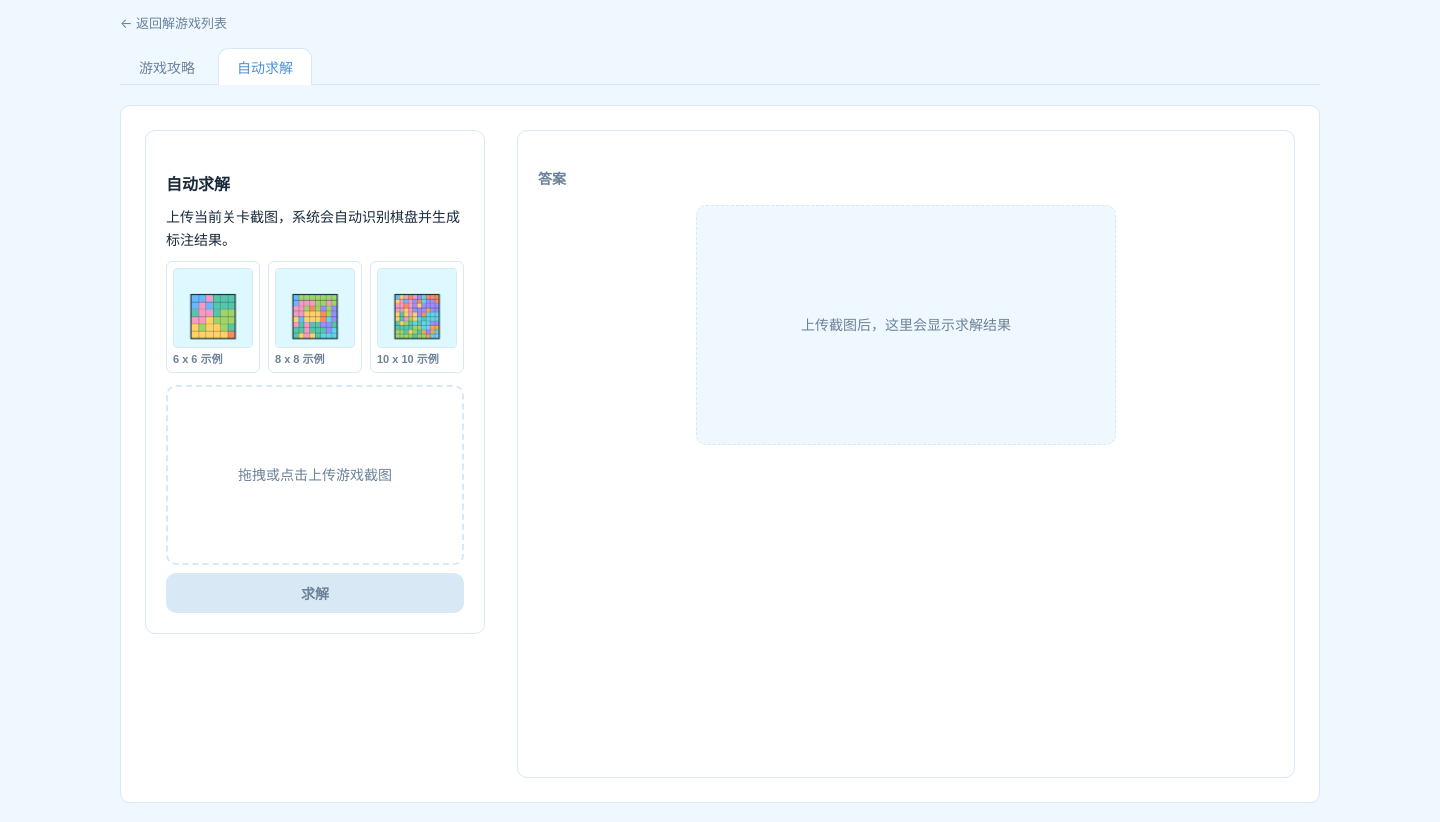
Test: SolveDetail › shows sample load errors without breaking upload controls
Click the button "10 x 10 示例": (417, 317) [370, 261, 464, 373]
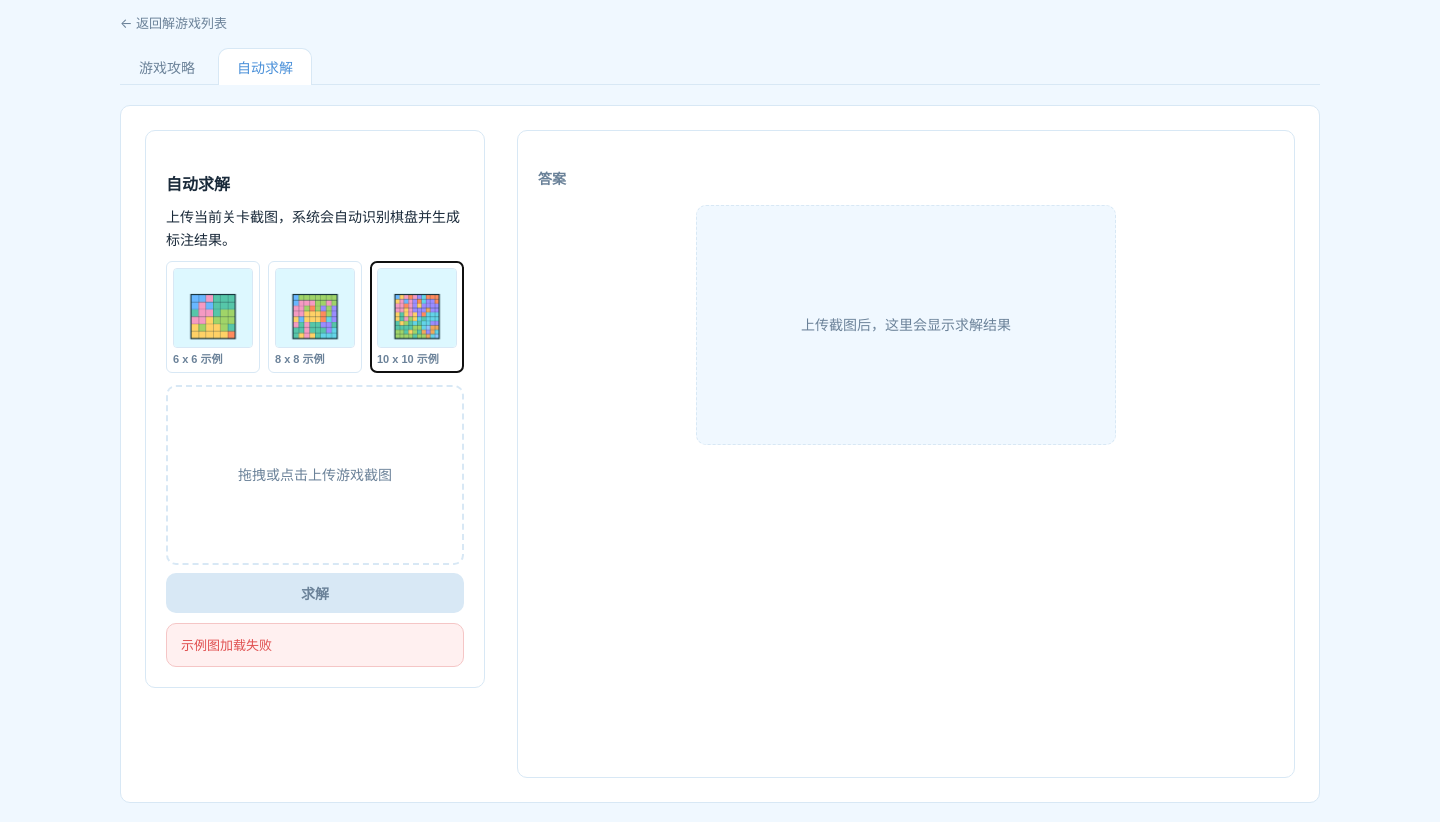
Expected: the text "拖拽或点击上传游戏截图" is shown, [238, 463, 392, 487]
Now the text "示例图加载失败" is shown, box [166, 623, 464, 667]
